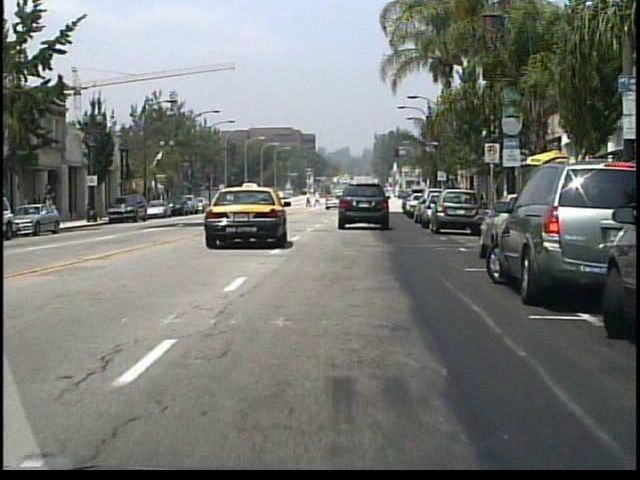person: (45, 194, 57, 224), (315, 190, 324, 210), (303, 192, 312, 210)
